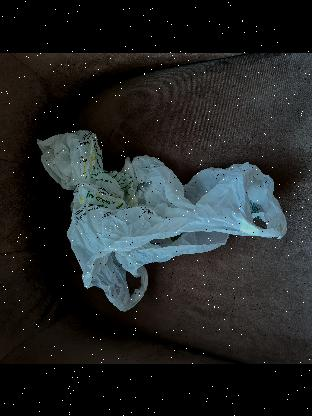Others: (32, 128, 282, 302)
